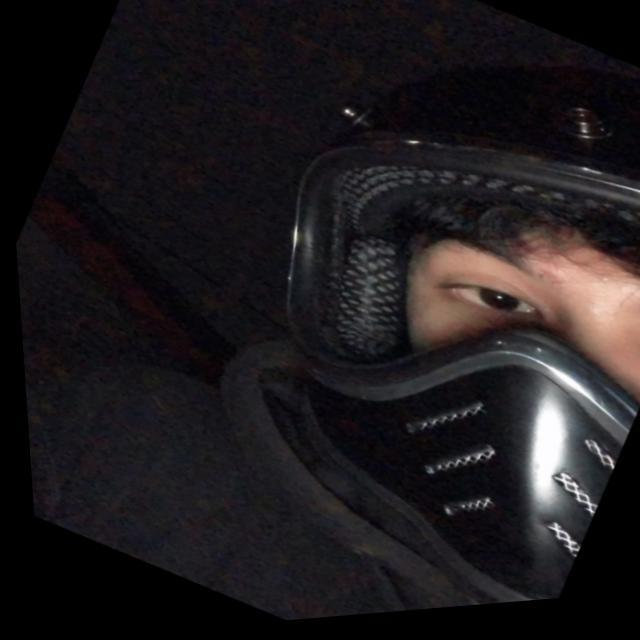Helmet: (254, 31, 640, 600)
